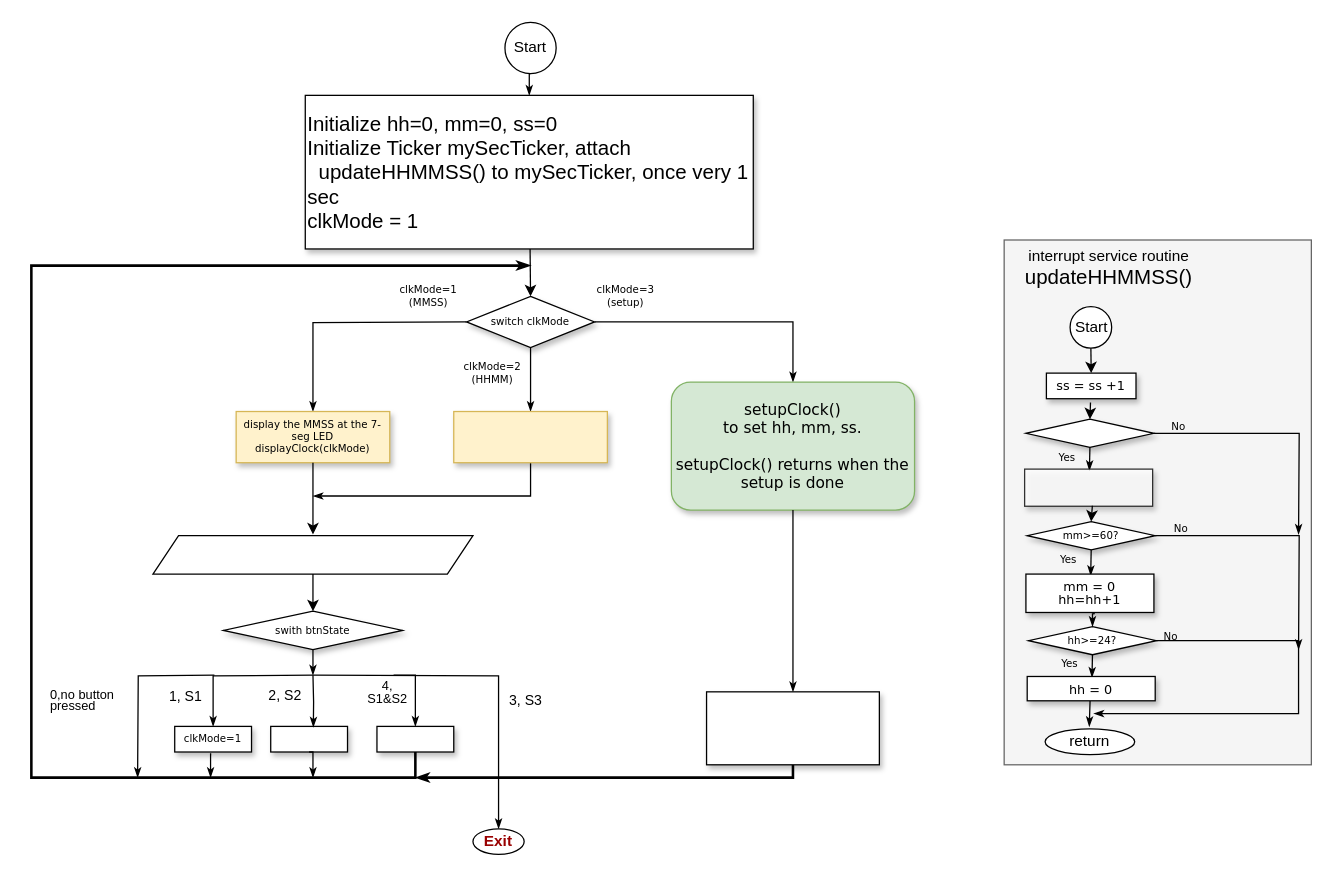
This 1334x877 diagram has some shape labels left out. The centre of each missing label's shape, as x and y in pixels:
"after setting up clock, got to clkMode 1 (HHMM) clkMode =1" goes at point (793, 729).
"btnState = readButton()" goes at point (312, 554).
"clkMode=2" goes at point (309, 740).
"clkMode=3" goes at point (416, 740).
"display the HHMM at the 7-seg LED displayClock(clkMode)" goes at point (531, 438).
"ss = 0 mm=mm+1" goes at point (1089, 489).
"ss>=60?" goes at point (1091, 434).
